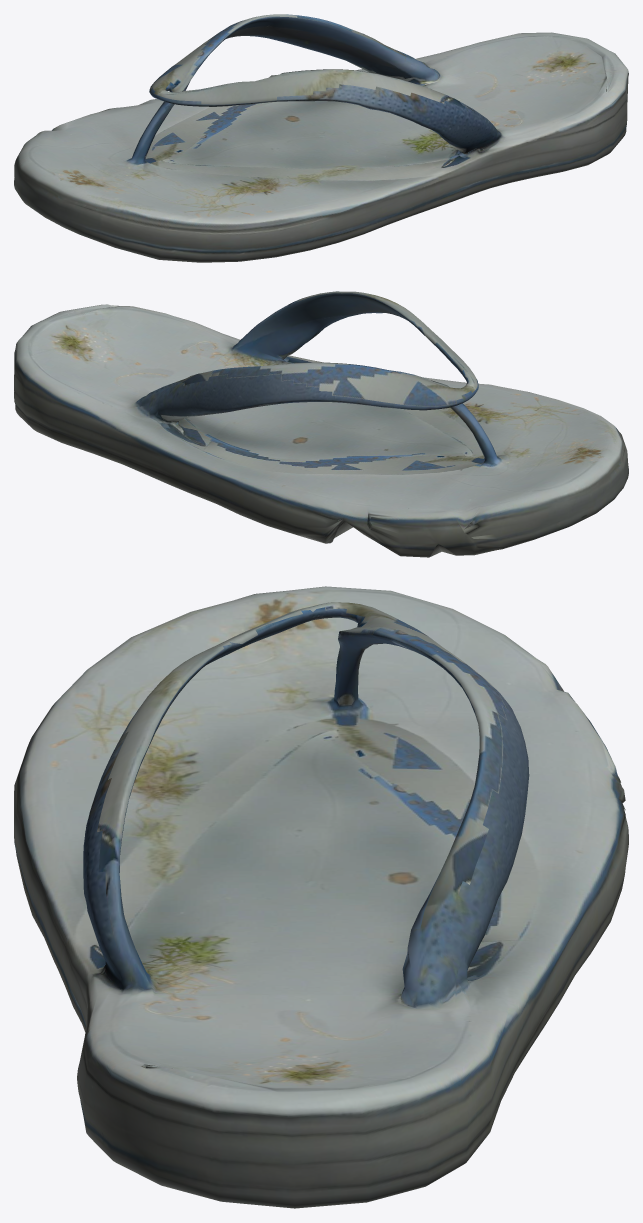
The model's file is Ein Flop v10.glb.
3 views of the same model, one above another, from view 1: azimuth 30°, elevation 25°; view 2: azimuth 150°, elevation 25°; view 3: azimuth 270°, elevation 25° (orthographic). The views are drawn at different scales.
Parts seen in each view (by area): view 1: Mesh0; view 2: Mesh0; view 3: Mesh0.
Part boxes in pixels (bbox=[...]): Mesh0: bbox=[14, 14, 628, 262]; Mesh0: bbox=[14, 291, 628, 557]; Mesh0: bbox=[14, 586, 628, 1208].
Bounding box in the file's own units: 1.99 × 0.459 × 1.
Materials: 1 (1 with a texture image).
